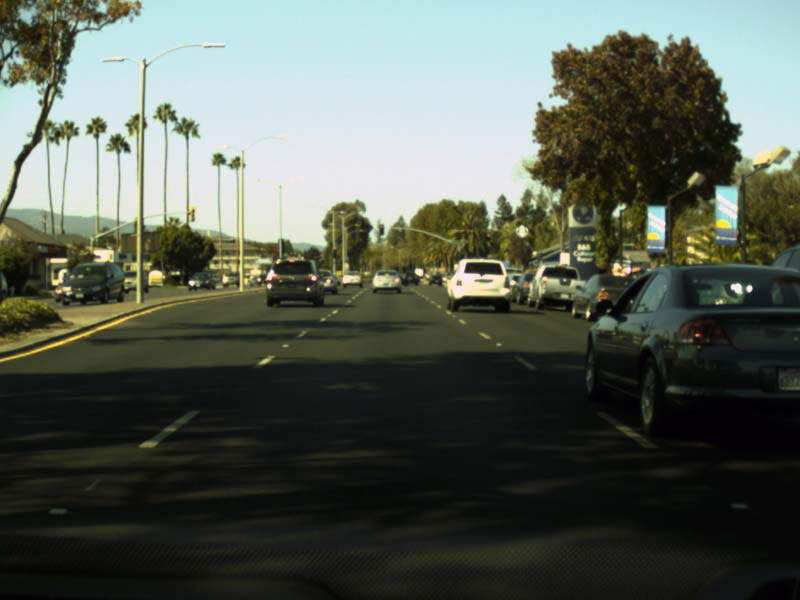Red: (379, 224, 383, 234)
